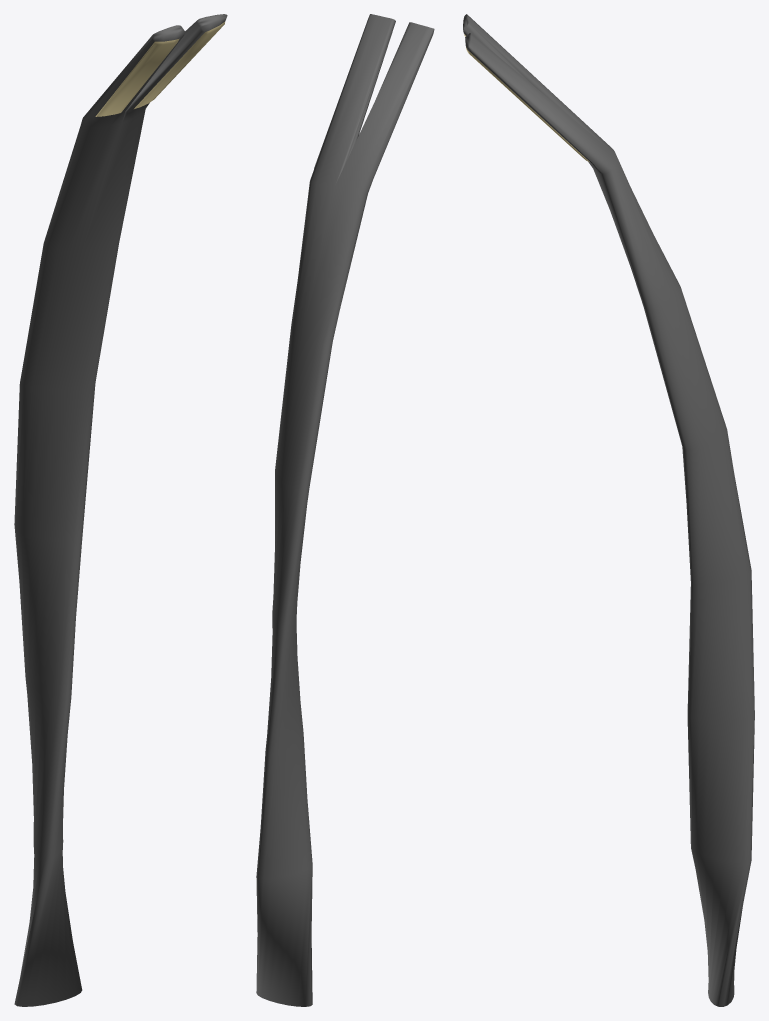
The model's file is Steet_Light.FBX.
The picture shows the model from 3 angles, left to right: view 1: azimuth 30°, elevation 25°; view 2: azimuth 150°, elevation 25°; view 3: azimuth 270°, elevation 25°; orthographic projection. The views are drawn at different scales.
Parts seen in each view (by area): view 1: Cylinder002; view 2: Cylinder002; view 3: Cylinder002.
Boxes of the visible parts, <box> form: Cylinder002: <box>14,14,227,1006</box>; Cylinder002: <box>256,14,434,1006</box>; Cylinder002: <box>463,14,754,1006</box>.
Bounding box in the file's own units: 19.77 × 266 × 72.97.
